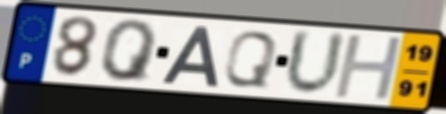8: (51, 14, 100, 79)
A: (158, 24, 221, 88)
H: (331, 34, 407, 101)
Q: (99, 18, 161, 84), (220, 29, 281, 90)
U: (282, 27, 349, 99)
